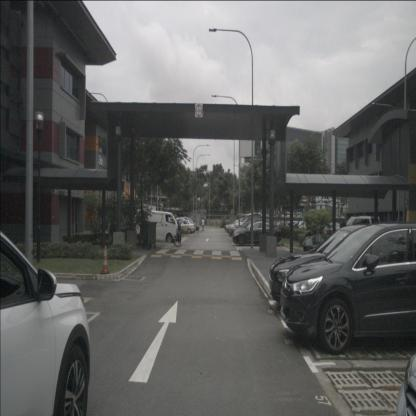cone: (100, 245, 110, 275)
